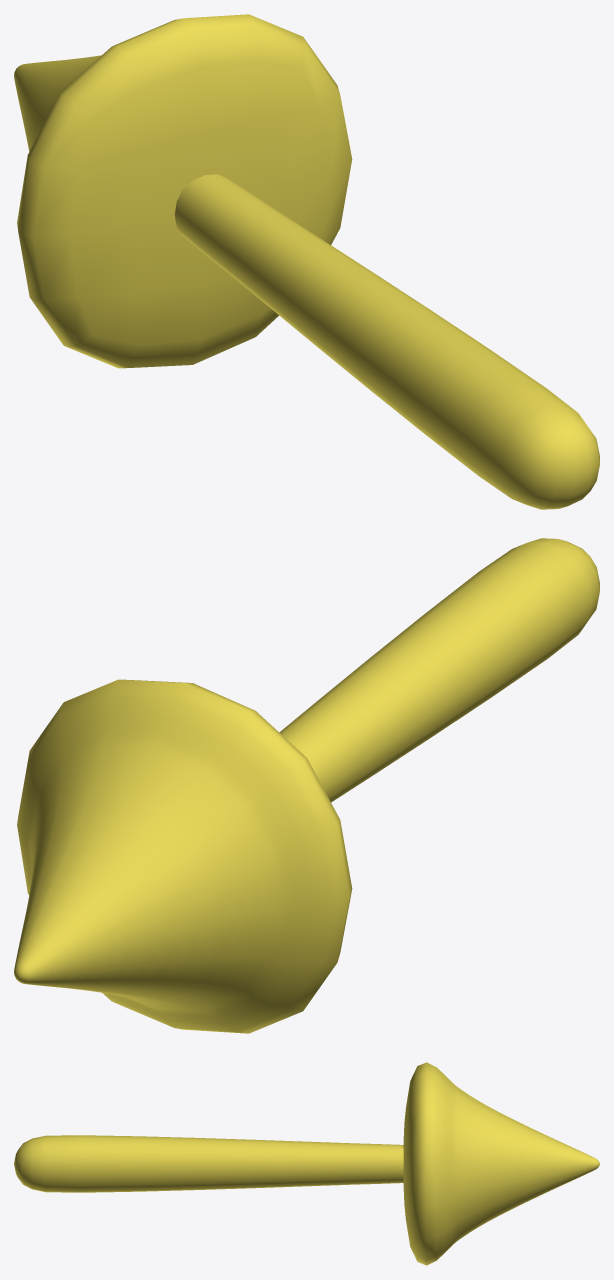
The model's file is arrow.glb.
3 views of the same model, one above another, from view 1: azimuth 30°, elevation 25°; view 2: azimuth 150°, elevation 25°; view 3: azimuth 270°, elevation 25° (orthographic). The views are drawn at different scales.
Visible parts, largest first — view 1: tail, tip; view 2: tail, tip; view 3: tail, tip.
Part boxes in pixels (x1=…): tail: x1=14, y1=14, x2=352, y2=368; tip: x1=174, y1=174, x2=599, y2=509; tail: x1=14, y1=679, x2=352, y2=1033; tip: x1=279, y1=538, x2=599, y2=802; tail: x1=403, y1=1062, x2=599, y2=1265; tip: x1=14, y1=1135, x2=403, y2=1192.
Size of the model in its own units: 2.36 by 2.36 by 6.87.
